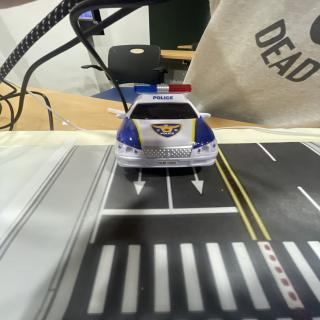Police_car: (115, 84, 218, 167)
